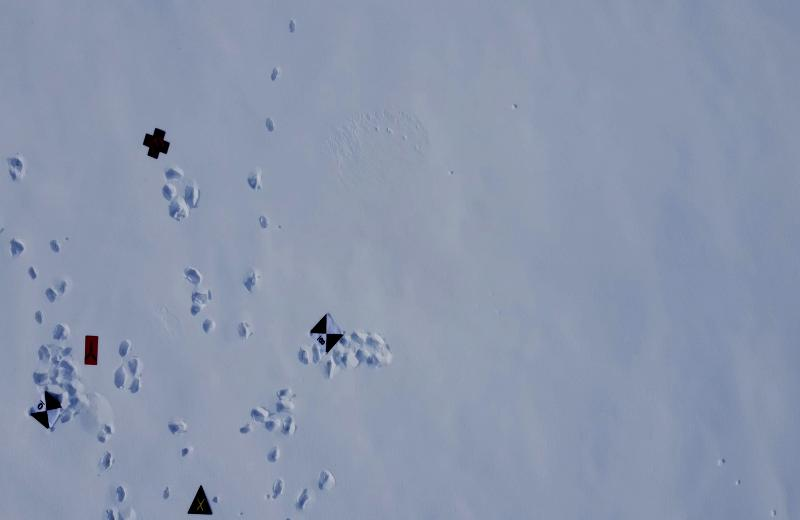Cross: (139, 124, 173, 162)
Rectangle: (83, 332, 101, 369)
Triangle: (185, 479, 215, 518)
